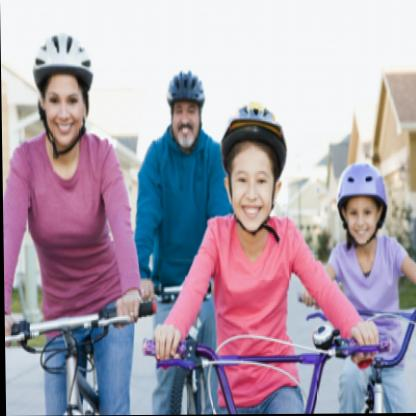With Helmet: (217, 100, 293, 237), (32, 24, 100, 165), (334, 160, 390, 246), (162, 65, 210, 150)
